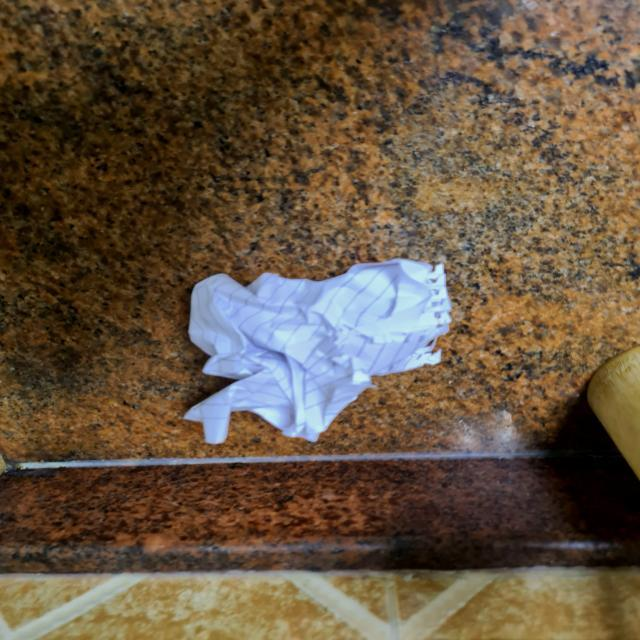Paper: (163, 254, 460, 448)
